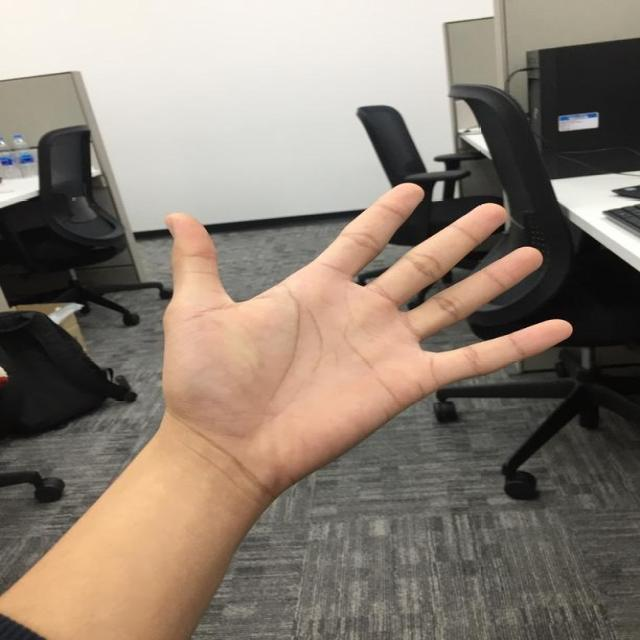hand: (163, 176, 574, 466)
